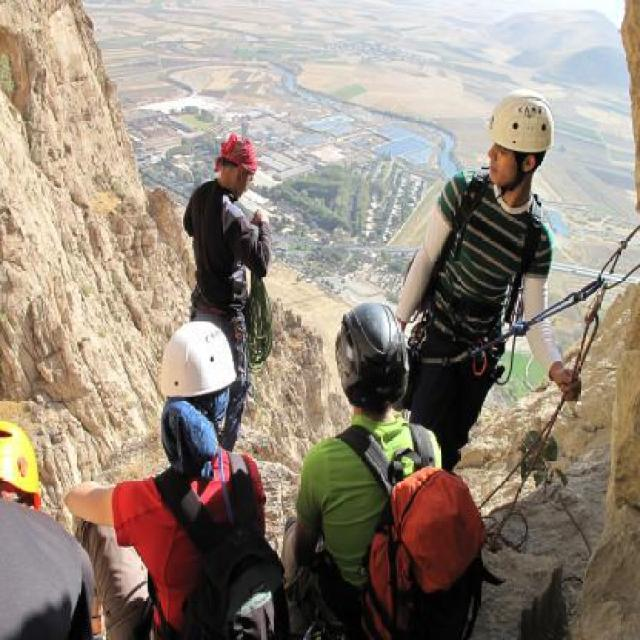Person: (60, 318, 294, 639), (278, 302, 496, 640), (400, 91, 565, 506), (178, 132, 274, 454), (0, 416, 106, 638)
